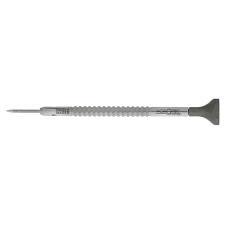screwdriver: (6, 97, 219, 124)
